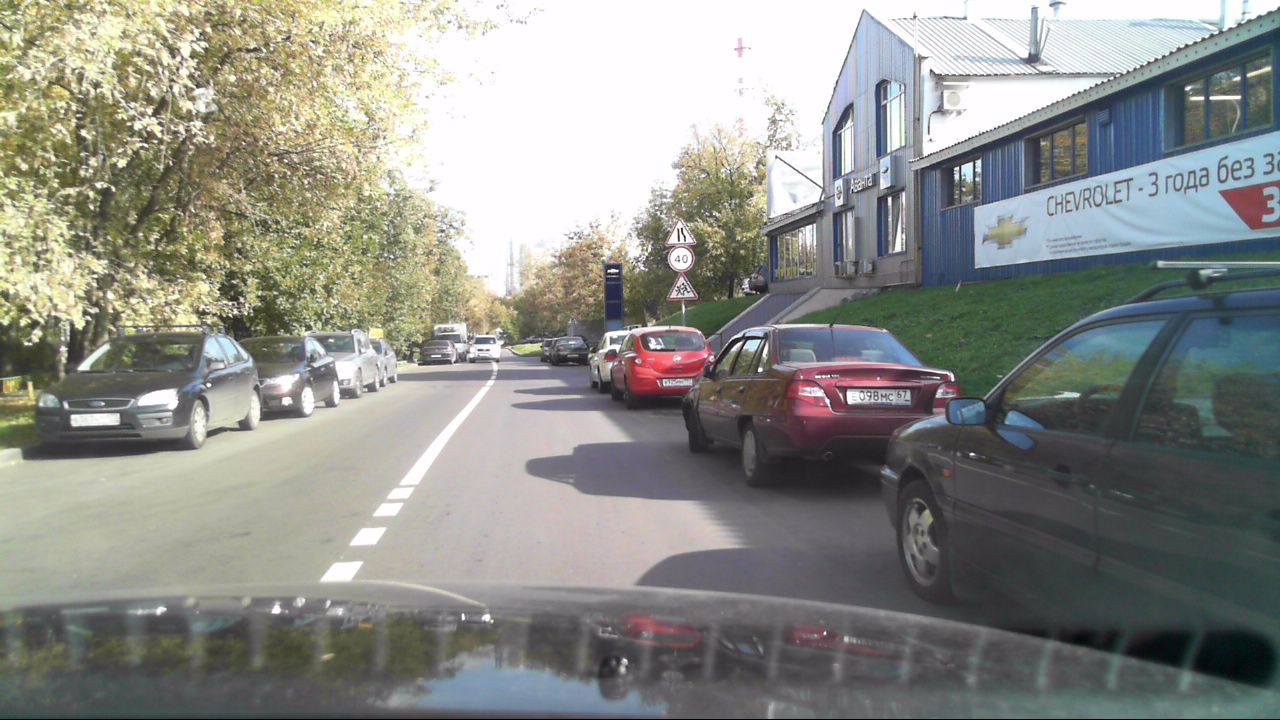speed_warning_40: (666, 243, 694, 274)
